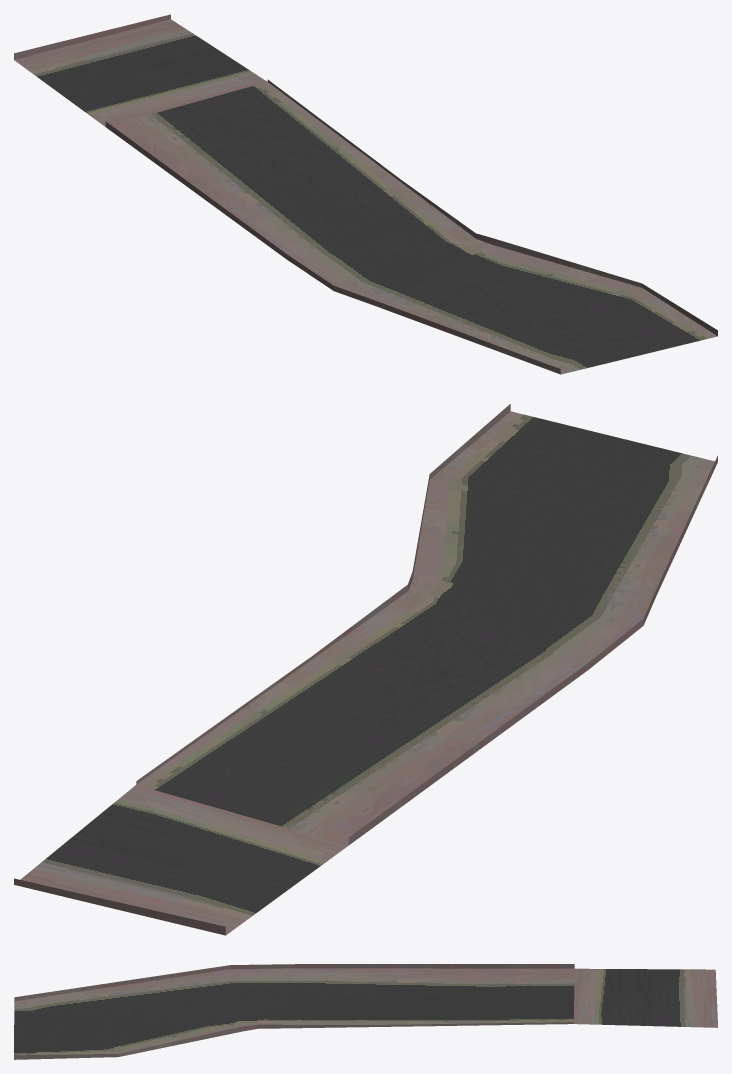
The model's file is lodlae2_roads85.obj.
The picture shows the model from 3 angles, top to bottom: view 1: azimuth 30°, elevation 25°; view 2: azimuth 150°, elevation 25°; view 3: azimuth 270°, elevation 25°; orthographic projection. The views are drawn at different scales.
Visible parts, largest first — view 1: LODLae2_roads85; view 2: LODLae2_roads85; view 3: LODLae2_roads85.
Boxes of the visible parts, <box> form: LODLae2_roads85: <box>14,14,717,374</box>; LODLae2_roads85: <box>14,404,717,935</box>; LODLae2_roads85: <box>14,964,717,1059</box>.
Size of the model in its own units: 31.23 by 1.17 by 102.
1 material, 1 textured.
